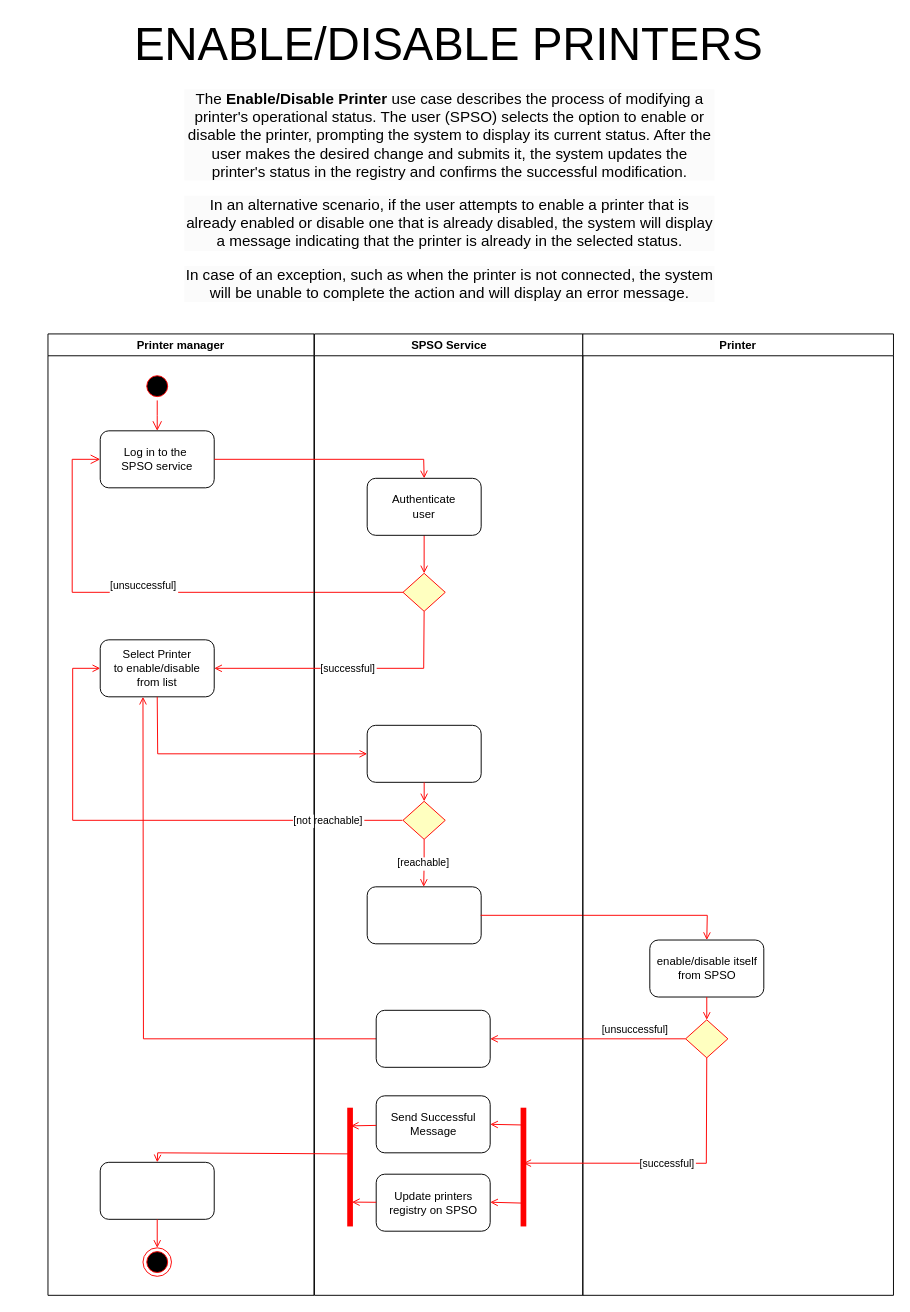
This 910x1312 diagram has some shape labels left out. The shapes that lost their labels are listed below. From the top down, each one's box as (x1, y1, x2, y2) in pixels, then its label:
(366, 724, 481, 782): Find the printer in the network
(366, 886, 481, 944): Send command to printer
(375, 1009, 490, 1067): Send unsuccessful driver message
(99, 1161, 214, 1219): Get Successful Message
